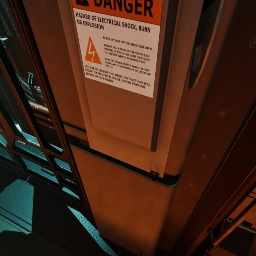SafetySwitchPanel ,: (57, 0, 225, 182)
